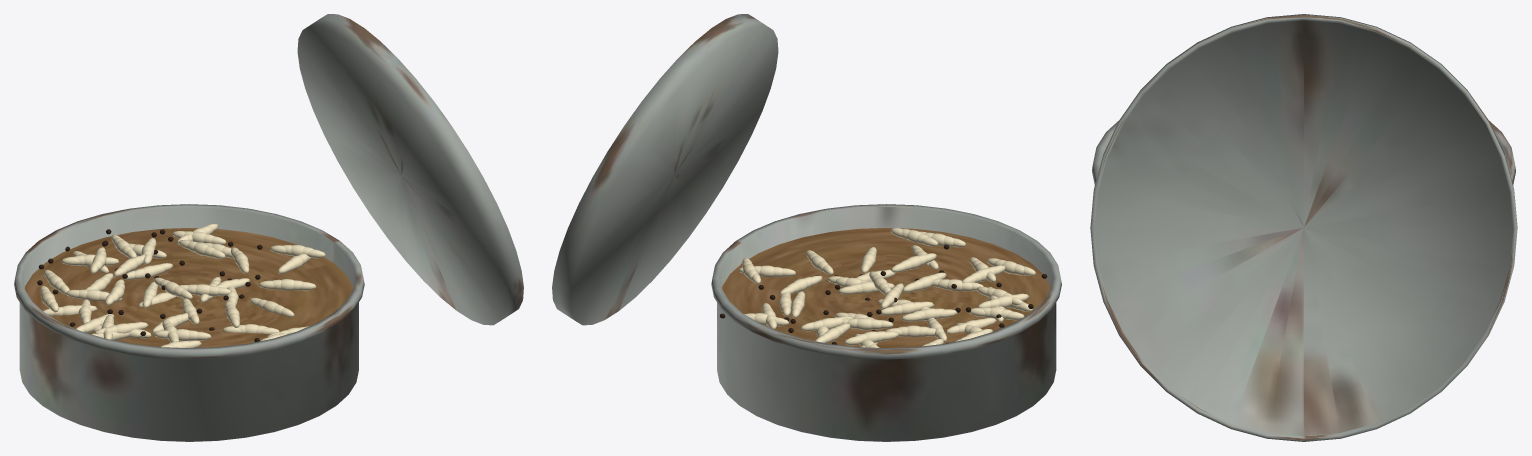
The model's file is maggot.gltf.
3 renders of one model, left to right at view 1: azimuth 30°, elevation 25°; view 2: azimuth 150°, elevation 25°; view 3: azimuth 270°, elevation 25°, orthographic. The views are drawn at different scales.
Parts seen in each view (by area): view 1: maggot, maggot_lid; view 2: maggot, maggot_lid; view 3: maggot_lid, maggot.
Boxes of the visible parts, x1,y1,x2,y2 form: maggot: [14, 204, 364, 441]; maggot_lid: [297, 14, 523, 325]; maggot: [711, 204, 1061, 441]; maggot_lid: [552, 14, 778, 325]; maggot_lid: [1090, 14, 1517, 441]; maggot: [1092, 121, 1515, 185].
Size of the model in its own units: 0.1341 by 0.0894 by 0.0936.
Materials: 4 (2 with a texture image).
